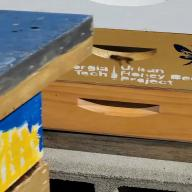Bee: (104, 51, 141, 67)
